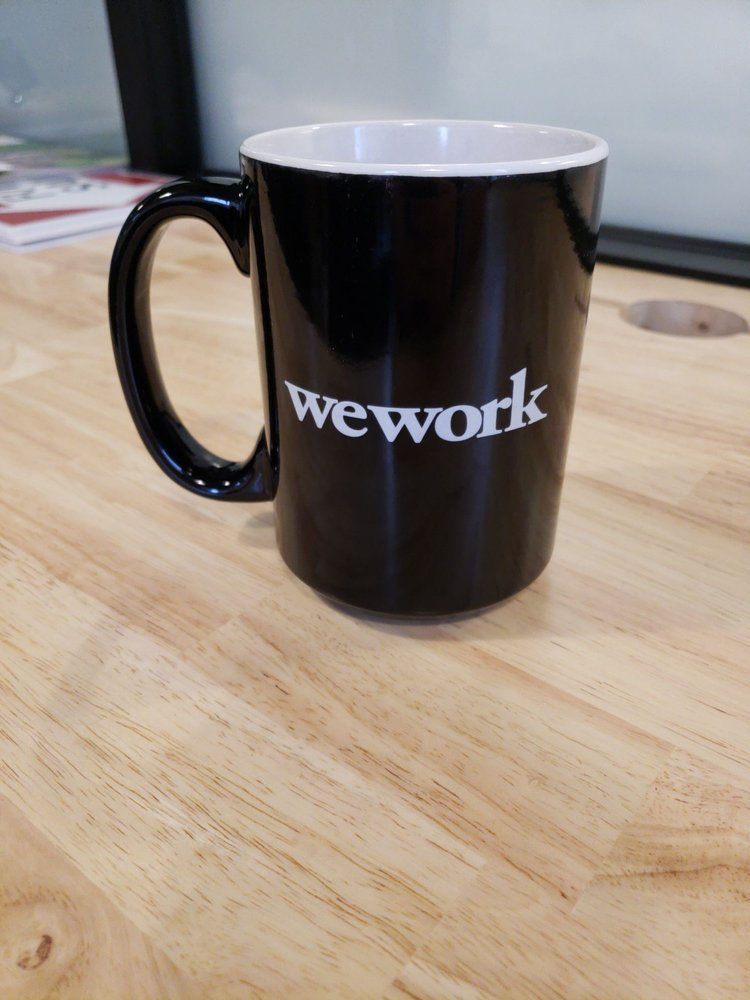wework: (277, 356, 554, 449)
